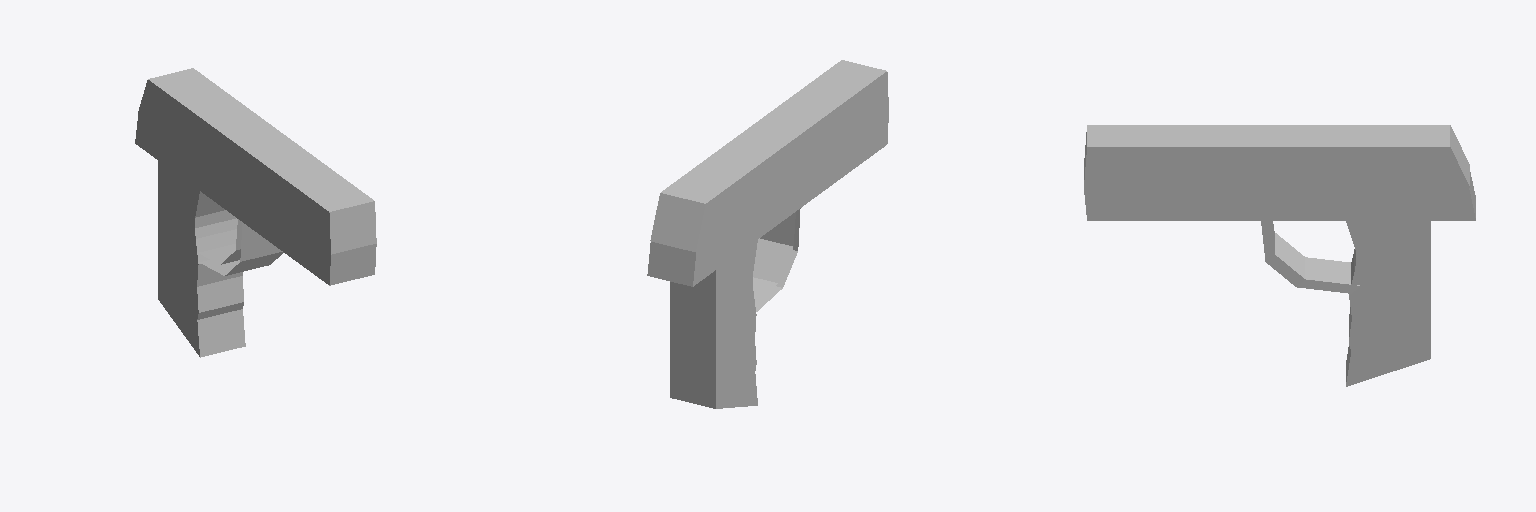
The model's file is Gun.obj.
3 views of the same model, side by side, from view 1: azimuth 30°, elevation 25°; view 2: azimuth 150°, elevation 25°; view 3: azimuth 270°, elevation 25° (orthographic).
Parts seen in each view (by area): view 1: Gun; view 2: Gun; view 3: Gun.
Part boxes in pixels (bbox=[...]): Gun: bbox=[135, 68, 376, 357]; Gun: bbox=[647, 60, 888, 408]; Gun: bbox=[1084, 125, 1475, 386].
Bounding box in the file's own units: 1.02 × 5.03 × 7.45.